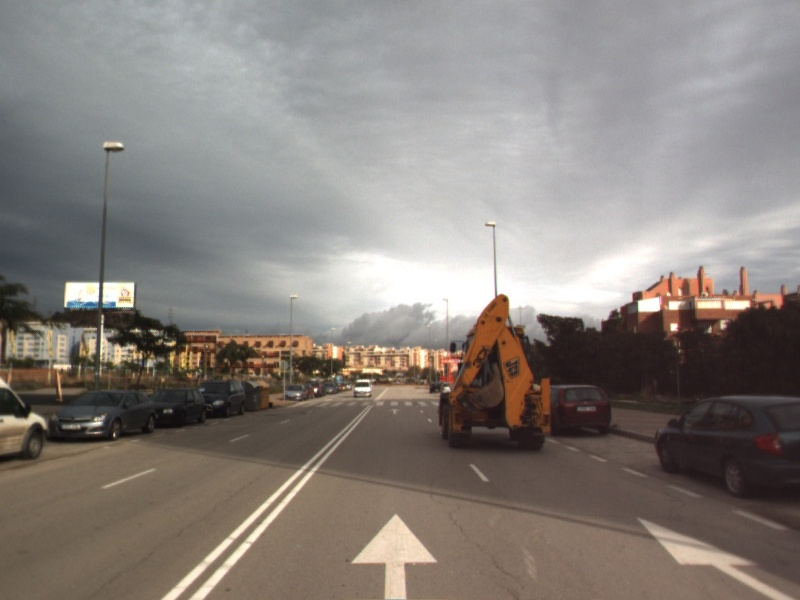STRAIGHT: (634, 515, 799, 600), (348, 509, 441, 600), (387, 407, 403, 416)
